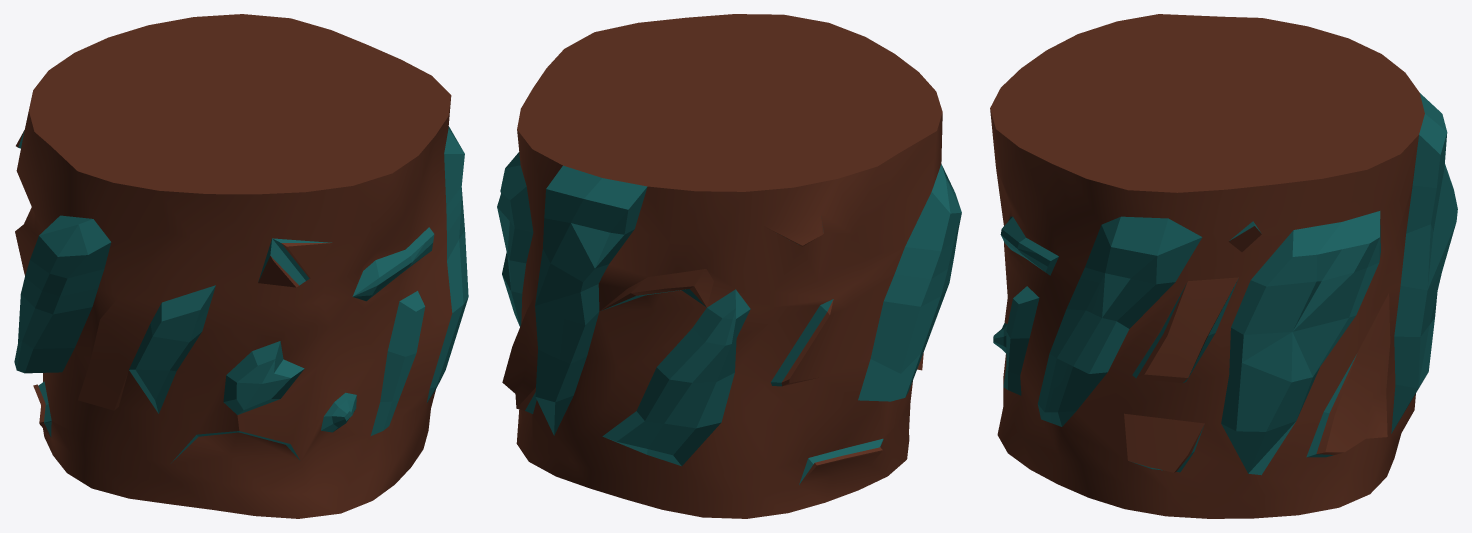
The model's file is Mount_4_2.fbx.
The picture shows the model from 3 angles, left to right: view 1: azimuth 30°, elevation 25°; view 2: azimuth 150°, elevation 25°; view 3: azimuth 270°, elevation 25°; orthographic projection.
Visible parts, largest first — view 1: Rock_4_2; view 2: Rock_4_2; view 3: Rock_4_2.
Boxes of the visible parts, x1,y1,x2,y2 form: Rock_4_2: (14, 14, 468, 518); Rock_4_2: (497, 14, 961, 518); Rock_4_2: (990, 14, 1457, 518).
Size of the model in its own units: 1925 by 1501 by 1923.
